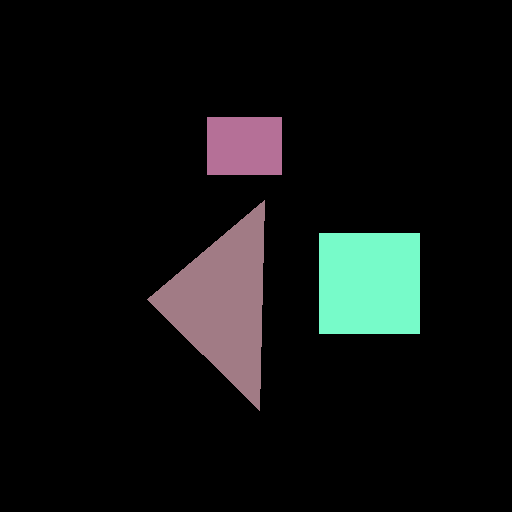rectangle: (207, 117, 281, 174)
square: (319, 233, 419, 333)
triangle: (147, 200, 264, 410)
